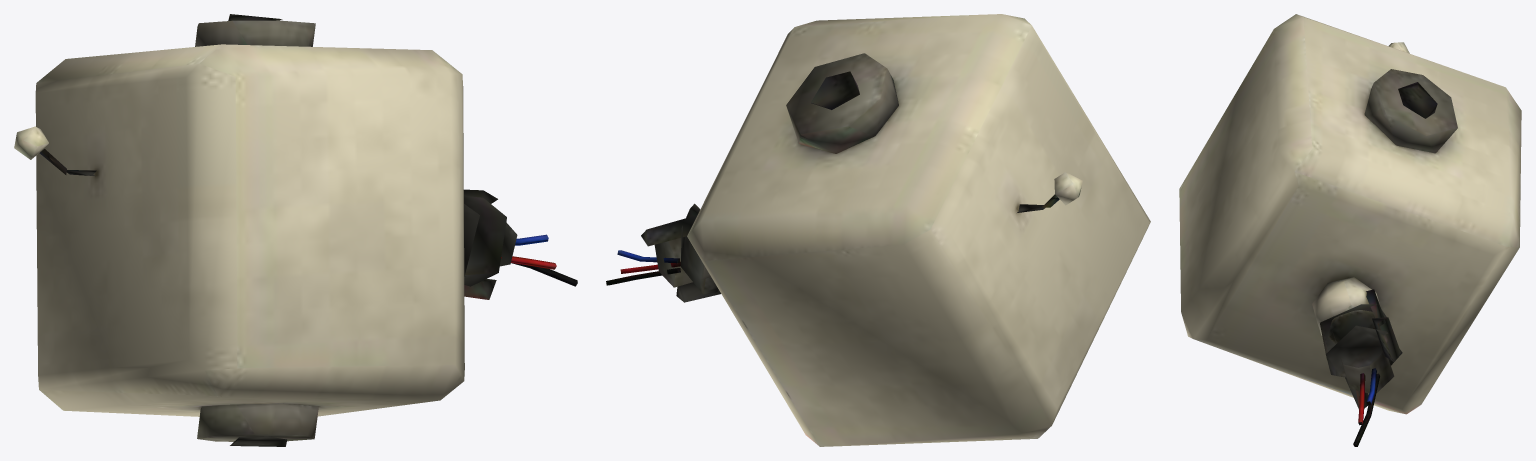
File: robot_head_lod1_web.glb
3 renders of one model, left to right at view 1: azimuth 30°, elevation 25°; view 2: azimuth 150°, elevation 25°; view 3: azimuth 270°, elevation 25°, orthographic. The views are drawn at different scales.
Parts seen in each view (by area): view 1: RobotHead_Body, RobotHead_Wires; view 2: RobotHead_Body, RobotHead_Wires; view 3: RobotHead_Body, RobotHead_Wires.
Part boxes in pixels (bbox=[...]): RobotHead_Body: bbox=[14, 14, 517, 446]; RobotHead_Wires: bbox=[501, 234, 577, 286]; RobotHead_Body: bbox=[641, 14, 1150, 446]; RobotHead_Wires: bbox=[606, 250, 680, 285]; RobotHead_Body: bbox=[1179, 14, 1521, 414]; RobotHead_Wires: bbox=[1353, 368, 1379, 446].
Bounding box in the file's own units: 0.662 × 0.5272 × 0.4696.
Materials: 1 (1 with a texture image).
